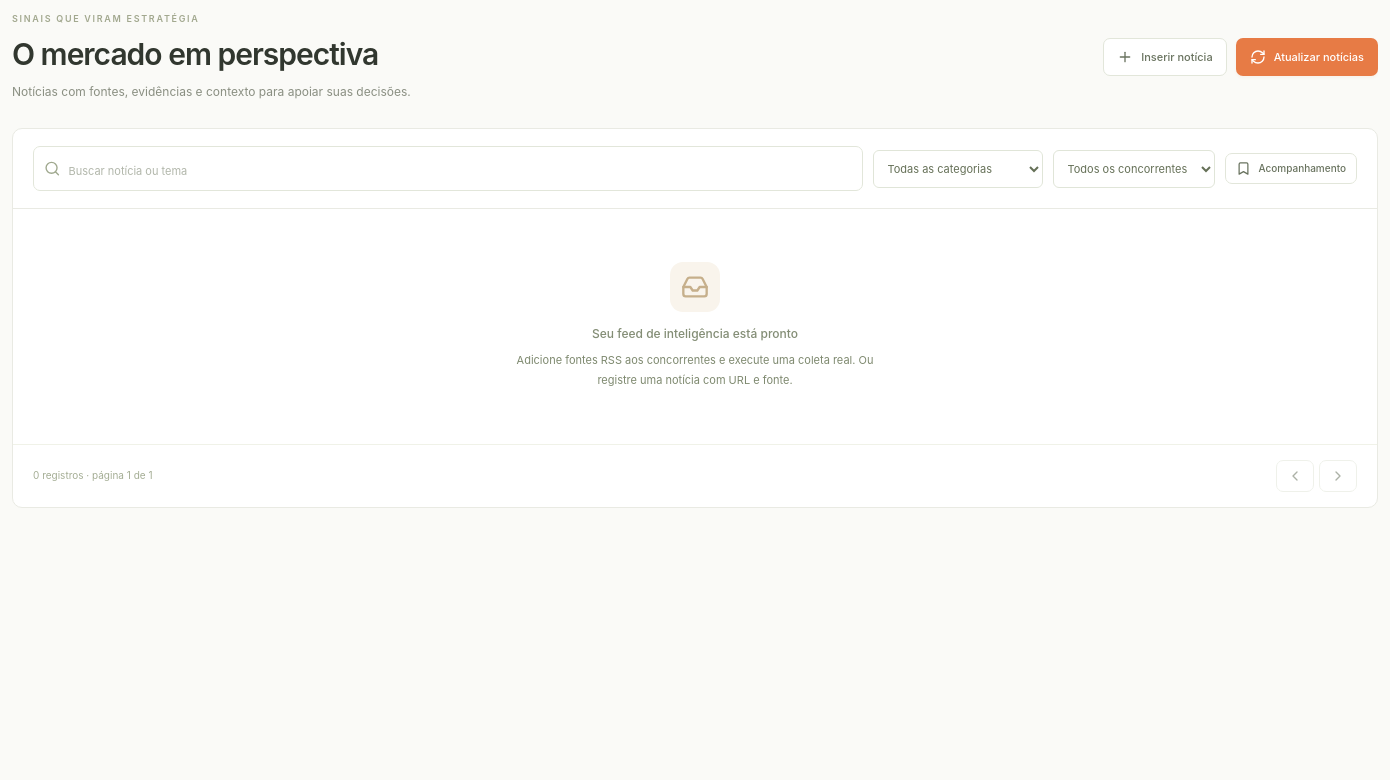
Test: Fluxos principais › expõe falha de RSS sem substituir por notícias fictícias
Click the button "Atualizar notícias": click(1307, 57) [1236,38,1378,76]
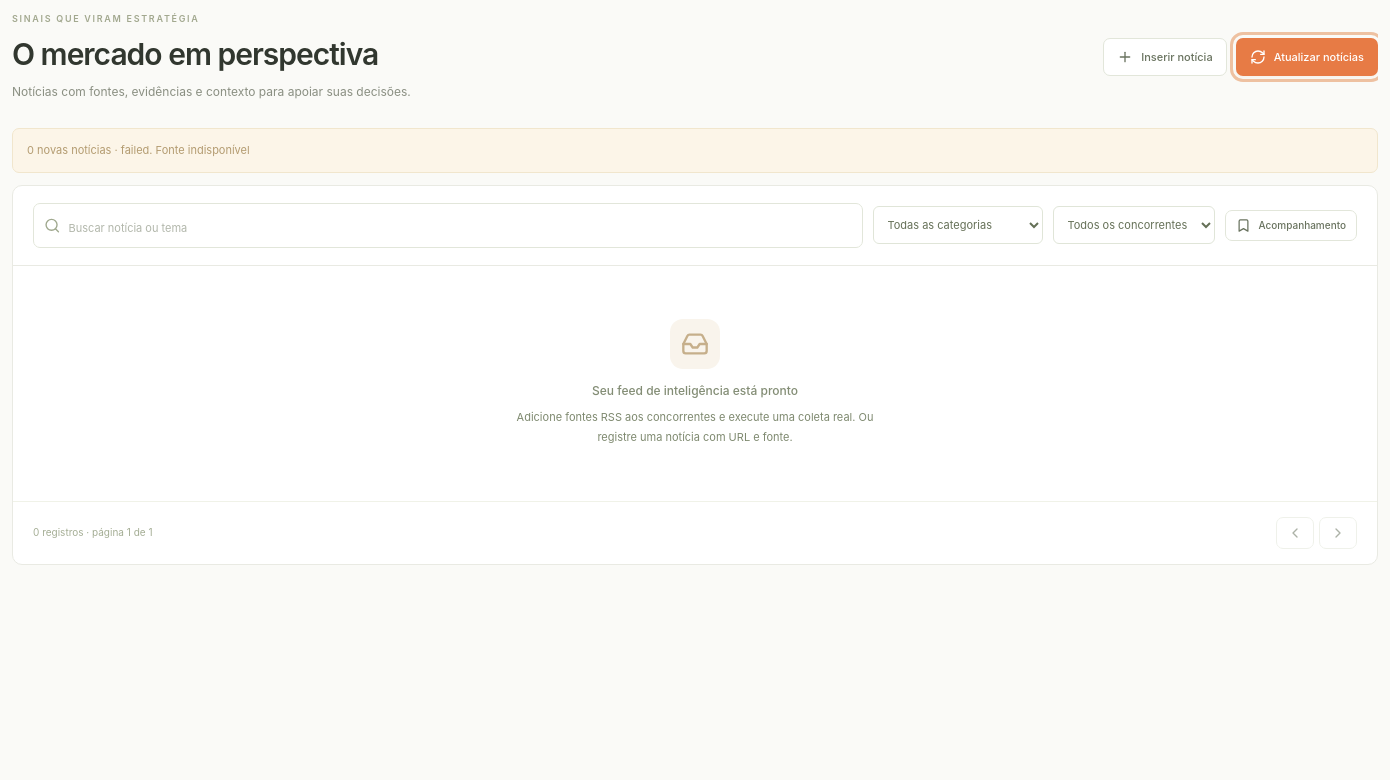
Expected: the heading "Seu feed de inteligência está pronto" is shown, [592,382,798,400]
Now the text "0 novas notícias · failed. Fonte indisponível" is shown, box [12,128,1378,173]
